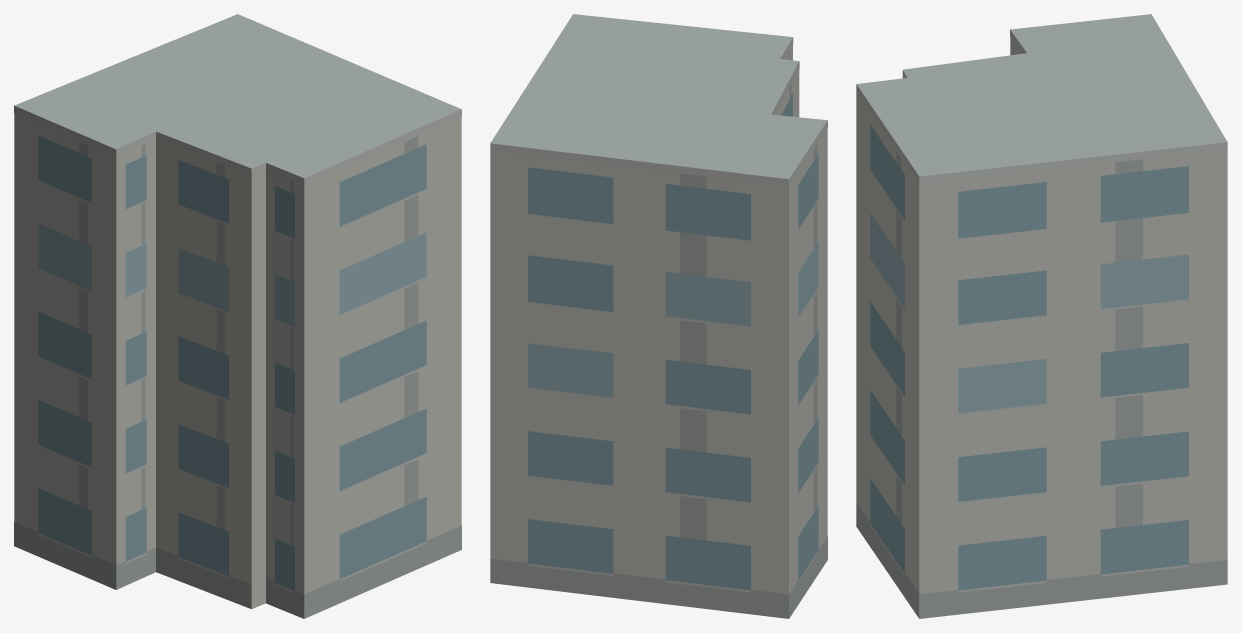
The model's file is survey-upis-32724572.glb.
The picture shows the model from 3 angles, left to right: view 1: azimuth 30°, elevation 25°; view 2: azimuth 150°, elevation 25°; view 3: azimuth 270°, elevation 25°; orthographic projection.
Visible parts, largest first — view 1: survey-upis-32724572.tmp; view 2: survey-upis-32724572.tmp; view 3: survey-upis-32724572.tmp.
Boxes of the visible parts, x1,y1,x2,y2 form: survey-upis-32724572.tmp: [14, 14, 461, 618]; survey-upis-32724572.tmp: [490, 14, 827, 618]; survey-upis-32724572.tmp: [856, 14, 1227, 618].
Size of the model in its own units: 11.12 by 14.1 by 10.74.
